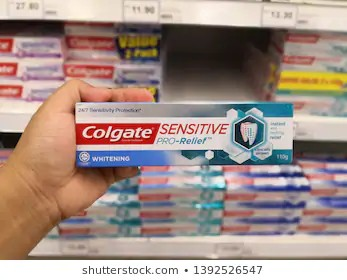colgate-medium: (74, 97, 296, 172)
